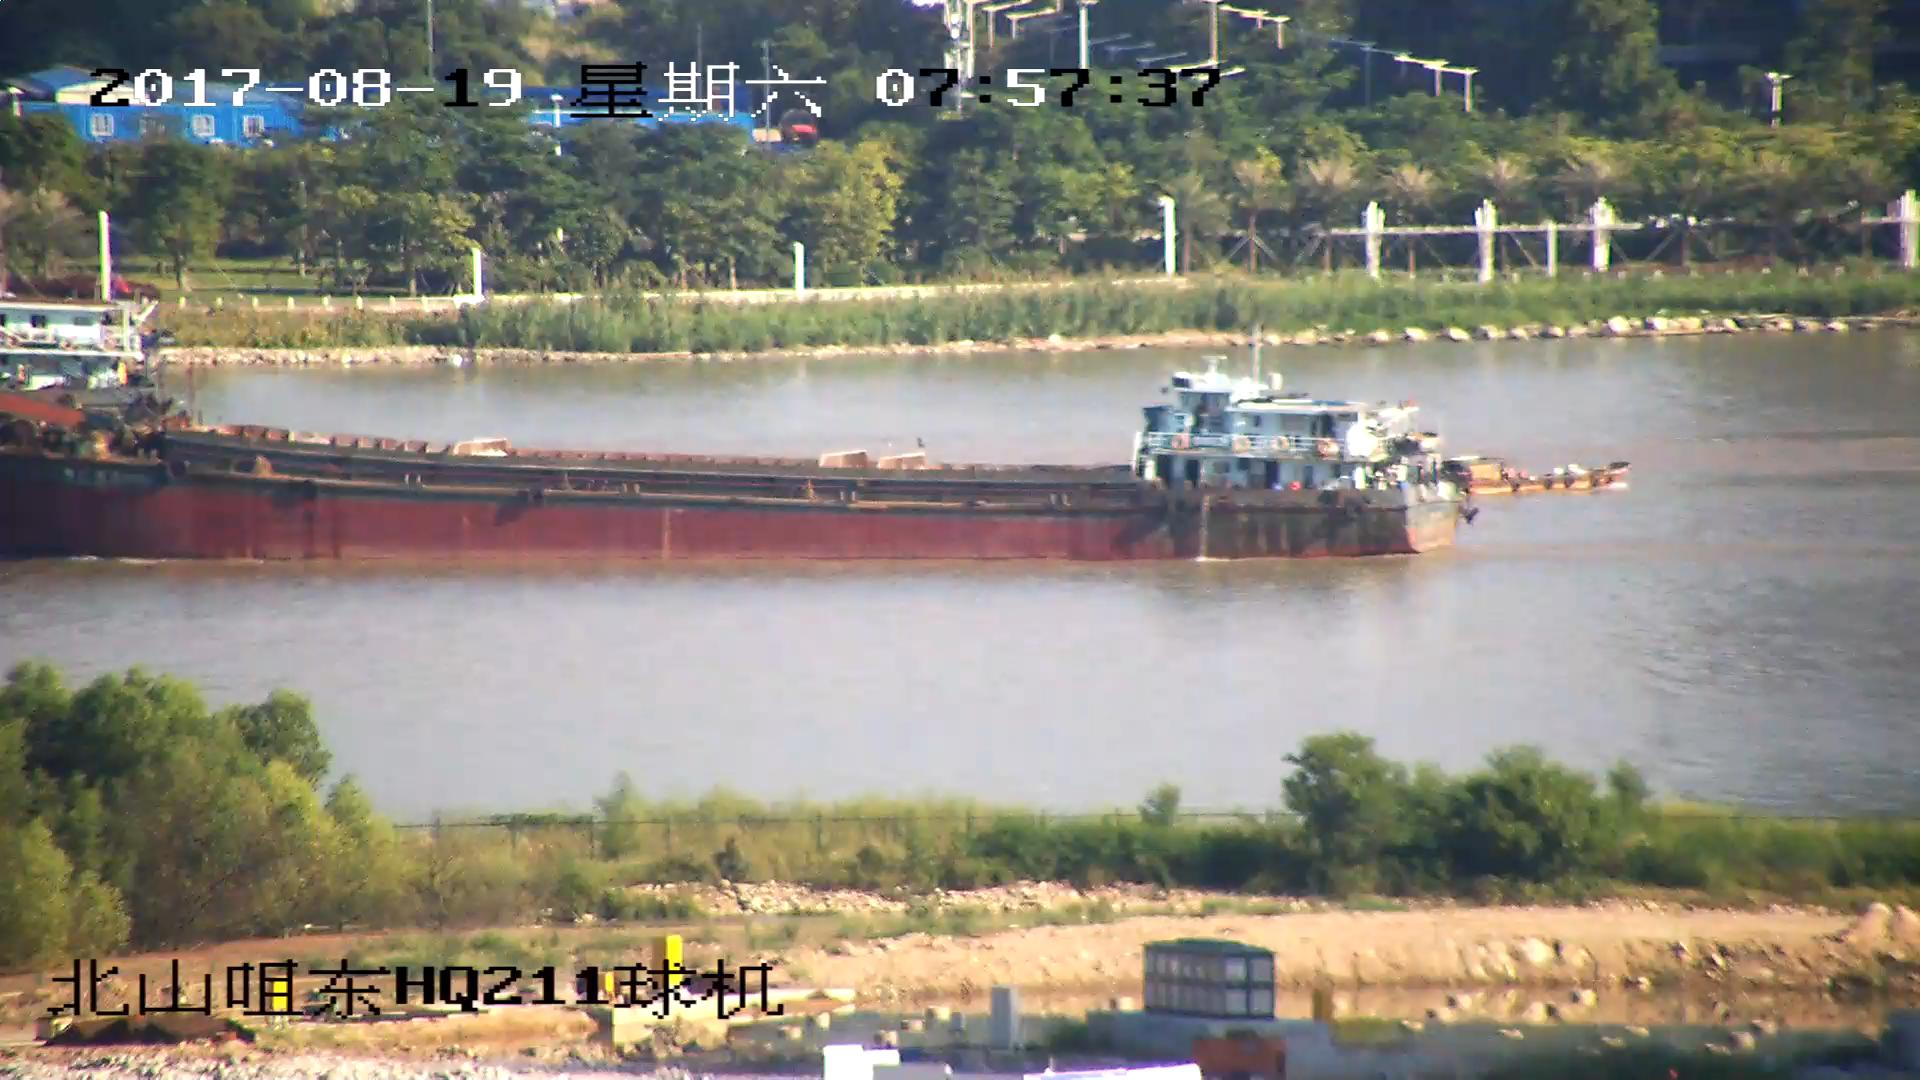bulk cargo carrier: (1, 366, 1468, 567)
fishing boat: (1442, 448, 1630, 493)
